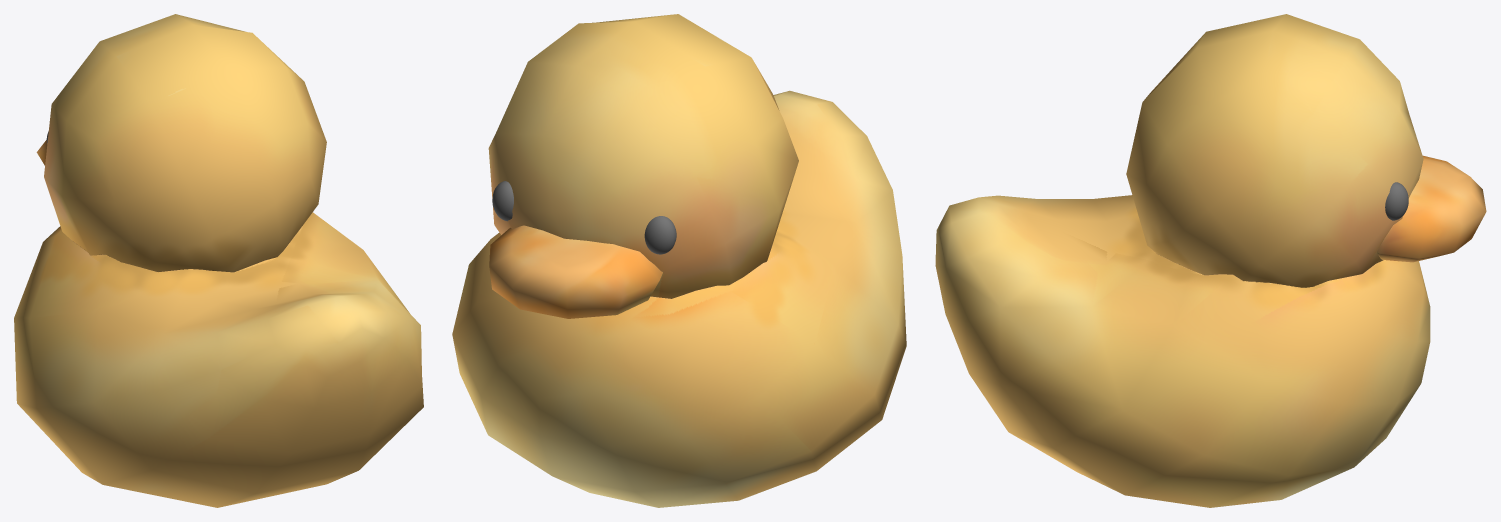
The model's file is patooo2.fbx.
The picture shows the model from 3 angles, left to right: view 1: azimuth 30°, elevation 25°; view 2: azimuth 150°, elevation 25°; view 3: azimuth 270°, elevation 25°; orthographic projection. The views are drawn at different scales.
Visible parts, largest first — view 1: patoooo:Mesh; view 2: patoooo:Mesh, ojoiz1, ojoiz; view 3: patoooo:Mesh, ojoiz.
Boxes of the visible parts, x1,y1,x2,y2 form: patoooo:Mesh: (14,14,423,507); patoooo:Mesh: (452,14,906,507); ojoiz1: (644,216,676,254); ojoiz: (492,181,513,221); patoooo:Mesh: (935,14,1486,507); ojoiz: (1385,182,1408,220).
Size of the model in its own units: 164 by 184 by 207.
